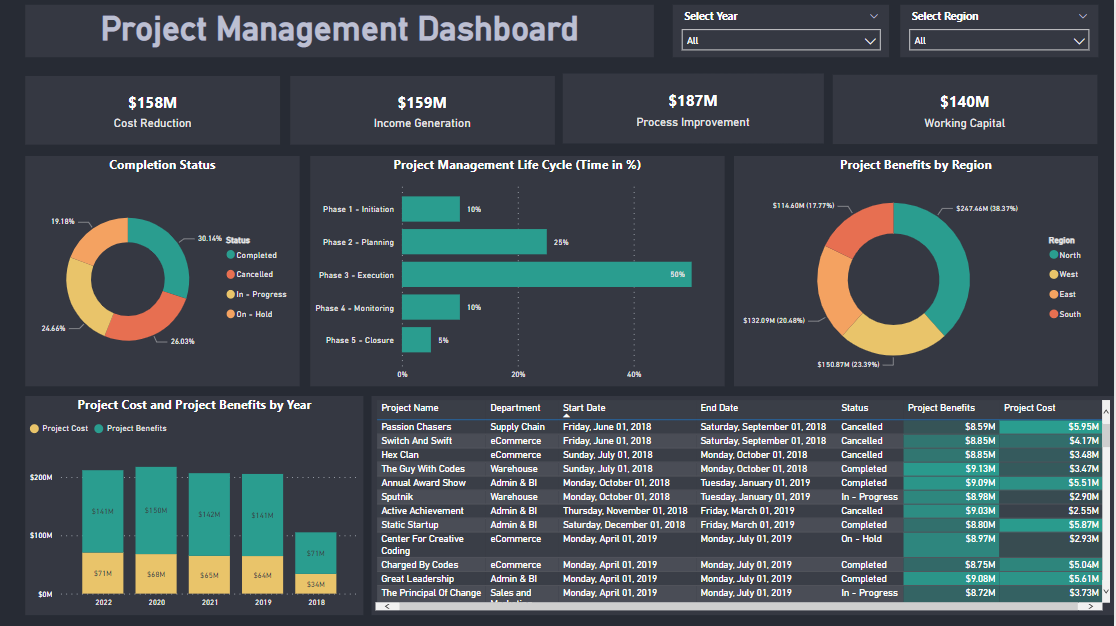

Layout of this report page (visuals, bound fields, positions):
{"tool":"powerbi","page":{"name":"Page 1","canvas":[1280,720],"ordinal":0},"visuals":[{"type":"card","fields":{"Values":["Sum(Project Management Dataset. Project Benefit )"]},"box":[36,91,291,78],"z":0},{"type":"card","fields":{"Values":["Sum(Project Management Dataset. Project Benefit )"]},"box":[959,90,302,79],"z":1000},{"type":"card","fields":{"Values":["Sum(Project Management Dataset. Project Benefit )"]},"box":[650,89,298,80],"z":2000},{"type":"card","fields":{"Values":["Sum(Project Management Dataset. Project Benefit )"]},"box":[338,91,302,78],"z":3000},{"type":"donutChart","title":"Completion Status","fields":{"Category":["Project Management Dataset.Status"],"Y":["CountNonNull(Project Management Dataset.Status)"]},"box":[35.6,182.2,313.3,263.3],"z":4000},{"type":"clusteredBarChart","title":"Project Management Life Cycle (Time in %)","fields":{"Y":["Sum(Sheet1.value)"],"Category":["Sheet1.Phasessss"]},"box":[360.8,182.5,473.3,263.3],"z":5000},{"type":"columnChart","title":" Project Cost and Project Benefits  by Year","fields":{"Y":["Sum(Project Management Dataset. Project Cost )","Sum(Project Management Dataset. Project Benefit )"],"Category":["Project Management Dataset.Custom"]},"box":[35.6,457.8,386.7,250],"z":6000},{"type":"tableEx","fields":{"Values":["Project Management Dataset (2).Project Name","Project Management Dataset (2).Department","Project Management Dataset (2).Start Date","Project Management Dataset (2).End Date","Project Management Dataset (2).Status","Sum(Project Management Dataset. Project Benefit )","Sum(Project Management Dataset. Project Cost )"]},"box":[431.1,457.8,848.9,250],"z":7000},{"type":"donutChart","title":" Project Benefits  by Region","fields":{"Category":["Project Management Dataset.Region"],"Y":["Sum(Project Management Dataset. Project Benefit )"]},"box":[845,182.5,415.8,263.3],"z":8000},{"type":"textbox","box":[35,10,718.8,60],"z":9000},{"type":"slicer","fields":{"Values":["Project Management Dataset.Custom"]},"box":[776.2,10,247.5,60],"z":10000},{"type":"slicer","fields":{"Values":["Project Management Dataset.Region"]},"box":[1035,10,226.2,60],"z":11000}]}

Visuals, with their boxes in screenshot pixels (x1, y1, x2, y2), scaled from the page's 1280x720 canvas onto the 1116x626 screenshot:
card - Sum(Project Management Dataset. Project Benefit ): <region>31, 79, 285, 147</region>
card - Sum(Project Management Dataset. Project Benefit ): <region>836, 78, 1099, 147</region>
card - Sum(Project Management Dataset. Project Benefit ): <region>567, 77, 827, 147</region>
card - Sum(Project Management Dataset. Project Benefit ): <region>295, 79, 558, 147</region>
"Completion Status" donutChart: <region>31, 158, 304, 387</region>
"Project Management Life Cycle (Time in %)" clusteredBarChart: <region>315, 159, 727, 388</region>
" Project Cost and Project Benefits  by Year" columnChart: <region>31, 398, 368, 615</region>
tableEx - Project Management Dataset (2).Project Name x Project Management Dataset (2).Department: <region>376, 398, 1115, 615</region>
" Project Benefits  by Region" donutChart: <region>737, 159, 1099, 388</region>
textbox: <region>31, 9, 657, 61</region>
slicer - Project Management Dataset.Custom: <region>677, 9, 893, 61</region>
slicer - Project Management Dataset.Region: <region>902, 9, 1100, 61</region>
